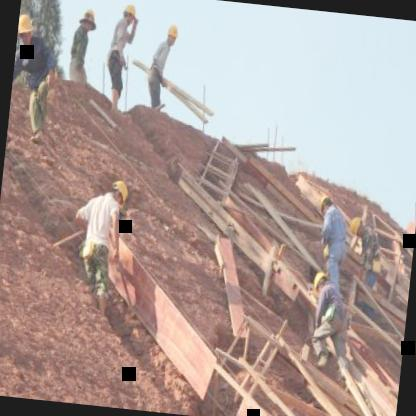helmet: (105, 175, 130, 211), (16, 10, 35, 51), (76, 2, 98, 36), (162, 18, 183, 50), (310, 268, 332, 298), (313, 190, 335, 219), (346, 210, 368, 238), (121, 0, 141, 25)
